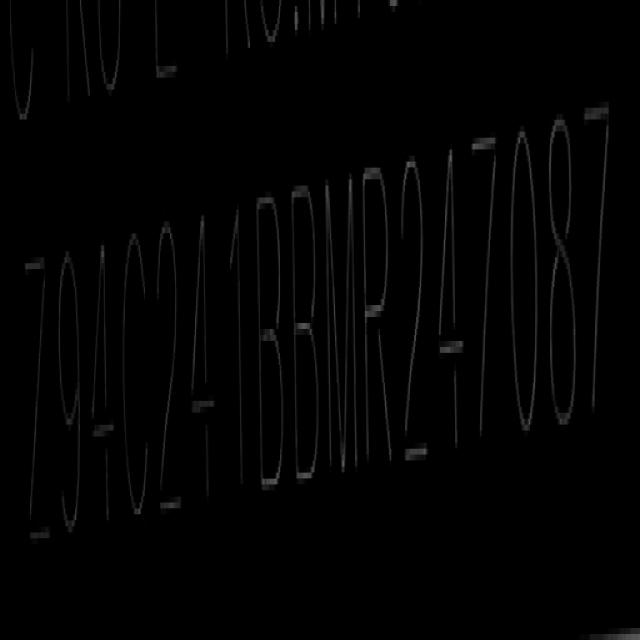0: (508, 120, 542, 448)
1: (229, 195, 248, 507)
2: (400, 149, 430, 471), (155, 218, 185, 530)
4: (434, 136, 464, 466), (190, 205, 221, 522), (90, 231, 117, 543)
7: (470, 124, 500, 454), (588, 89, 616, 430)
8: (545, 106, 576, 435)
9: (52, 248, 82, 558)
B: (257, 188, 288, 500), (295, 174, 323, 492)
C: (124, 223, 156, 538)
N: (324, 163, 356, 483)
R: (364, 156, 396, 477)
Z: (23, 243, 50, 568)
